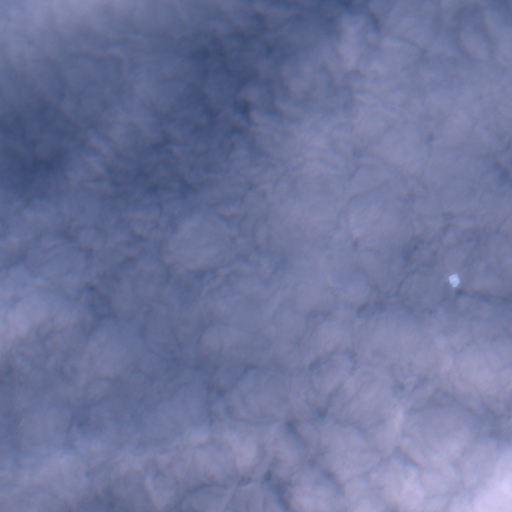Iceberg: (449, 274, 459, 287)
